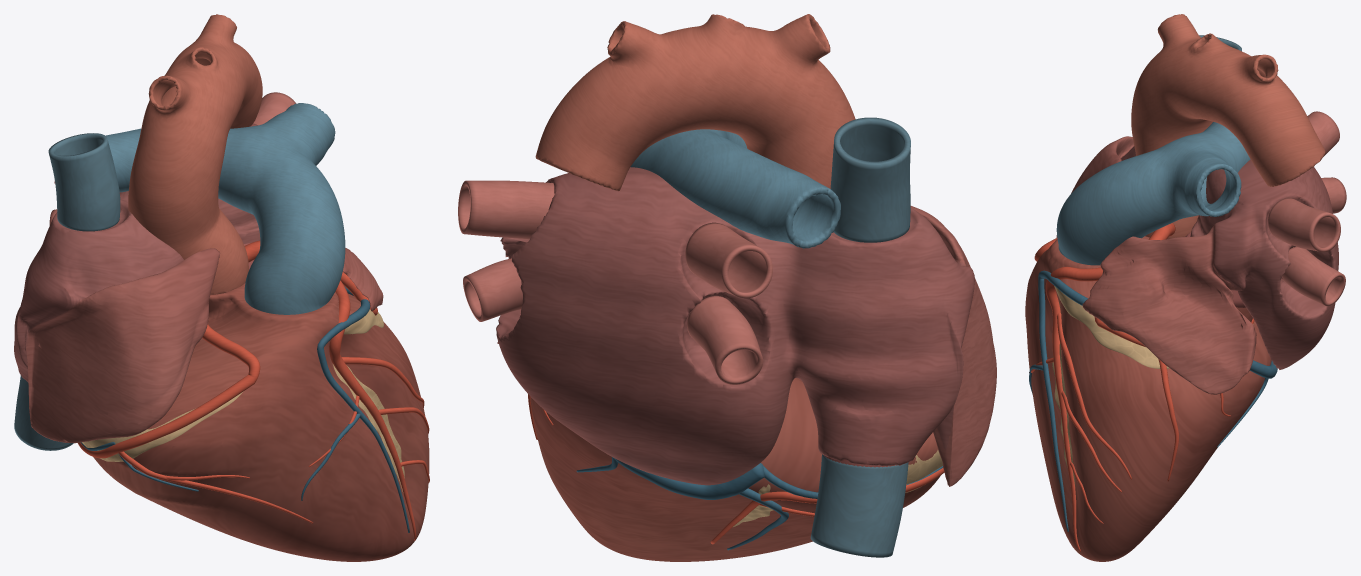
Rendered from whole.glb.
3 views of the same model, side by side, from view 1: azimuth 30°, elevation 25°; view 2: azimuth 150°, elevation 25°; view 3: azimuth 270°, elevation 25° (orthographic). The views are drawn at different scales.
Visible parts, largest first — view 1: Ventricular_myocardium, Atrial_Myocardium, Aorta, Pulmonary_tree, SVC, A09_Right_AV_to_posterior, A01_Anterior_interventricular, V01_Great_cardiac, IVC, F03_Right_coronary_groove, F01_Anterior_groove, A10_Acute_marginal (+3 smaller); view 2: Atrial_Myocardium, Aorta, Ventricular_myocardium, Pulmonary_tree, SVC, IVC, LSPV, RSPV, RIPV, LIPV, V03_Coronary_sinus, A09_Right_AV_to_posterior (+2 smaller); view 3: Atrial_Myocardium, Ventricular_myocardium, Aorta, Pulmonary_tree, LSPV, LIPV, A01_Anterior_interventricular, V01_Great_cardiac, F02_Left_coronary_groove, A02_First_diagonal, RSPV, A07_Obtuse_marginal (+3 smaller).
Part boxes in pixels (<box>): Ventricular_myocardium: <box>93,283,429,561</box>; Atrial_Myocardium: <box>14,123,383,443</box>; Aorta: <box>128,14,262,294</box>; Pulmonary_tree: <box>106,103,345,314</box>; SVC: <box>48,133,120,231</box>; A09_Right_AV_to_posterior: <box>78,324,260,458</box>; A01_Anterior_interventricular: <box>329,280,416,540</box>; V01_Great_cardiac: <box>317,286,409,532</box>; IVC: <box>14,375,73,450</box>; F03_Right_coronary_groove: <box>82,391,243,461</box>; F01_Anterior_groove: <box>333,364,404,492</box>; A10_Acute_marginal: <box>118,451,313,523</box>; Atrial_Myocardium: <box>496,167,996,486</box>; Aorta: <box>535,14,855,191</box>; Ventricular_myocardium: <box>530,378,940,561</box>; Pulmonary_tree: <box>630,129,840,248</box>; SVC: <box>830,117,910,242</box>; IVC: <box>810,454,908,557</box>; LSPV: <box>458,180,554,239</box>; RSPV: <box>685,222,772,298</box>; RIPV: <box>687,296,763,384</box>; LIPV: <box>463,258,522,321</box>; V03_Coronary_sinus: <box>612,457,765,499</box>; A09_Right_AV_to_posterior: <box>710,468,944,544</box>; Atrial_Myocardium: <box>1056,136,1338,394</box>; Ventricular_myocardium: <box>1025,236,1271,561</box>; Aorta: <box>1131,14,1325,238</box>; Pulmonary_tree: <box>1056,122,1250,265</box>; LSPV: <box>1268,198,1340,251</box>; LIPV: <box>1281,246,1345,306</box>; A01_Anterior_interventricular: <box>1045,266,1102,551</box>; V01_Great_cardiac: <box>1038,270,1087,531</box>; F02_Left_coronary_groove: <box>1054,286,1253,368</box>; A02_First_diagonal: <box>1057,312,1131,479</box>; RSPV: <box>1307,111,1339,156</box>; A07_Obtuse_marginal: <box>1158,359,1178,481</box>.
Size of the model in its own units: 0.1005 by 0.1298 by 0.081.
Materials: 13 (13 with a texture image).
